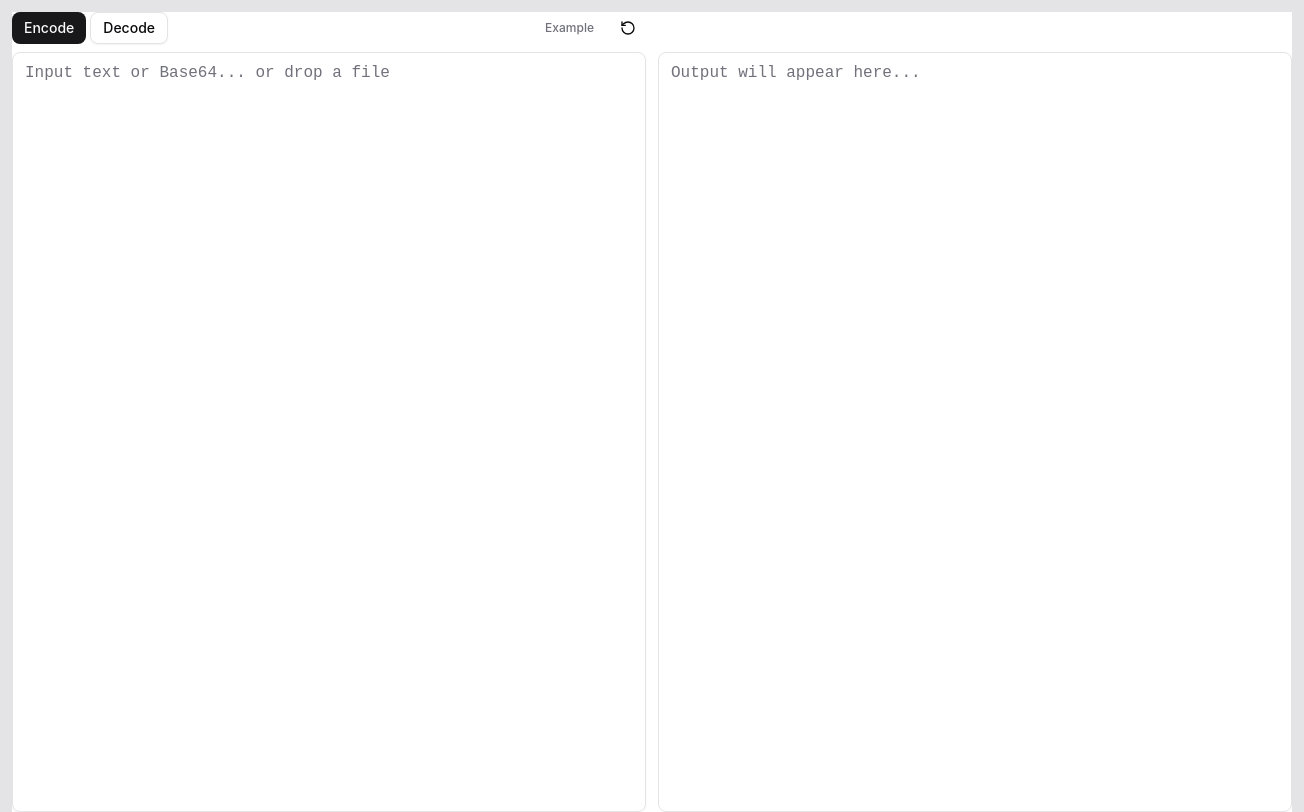
Test case: Encode mode produces base64 output
The width and height of the screenshot is (1304, 812).
Step 1. Click the button "Example" → (570, 28), box [533,12,606,44]
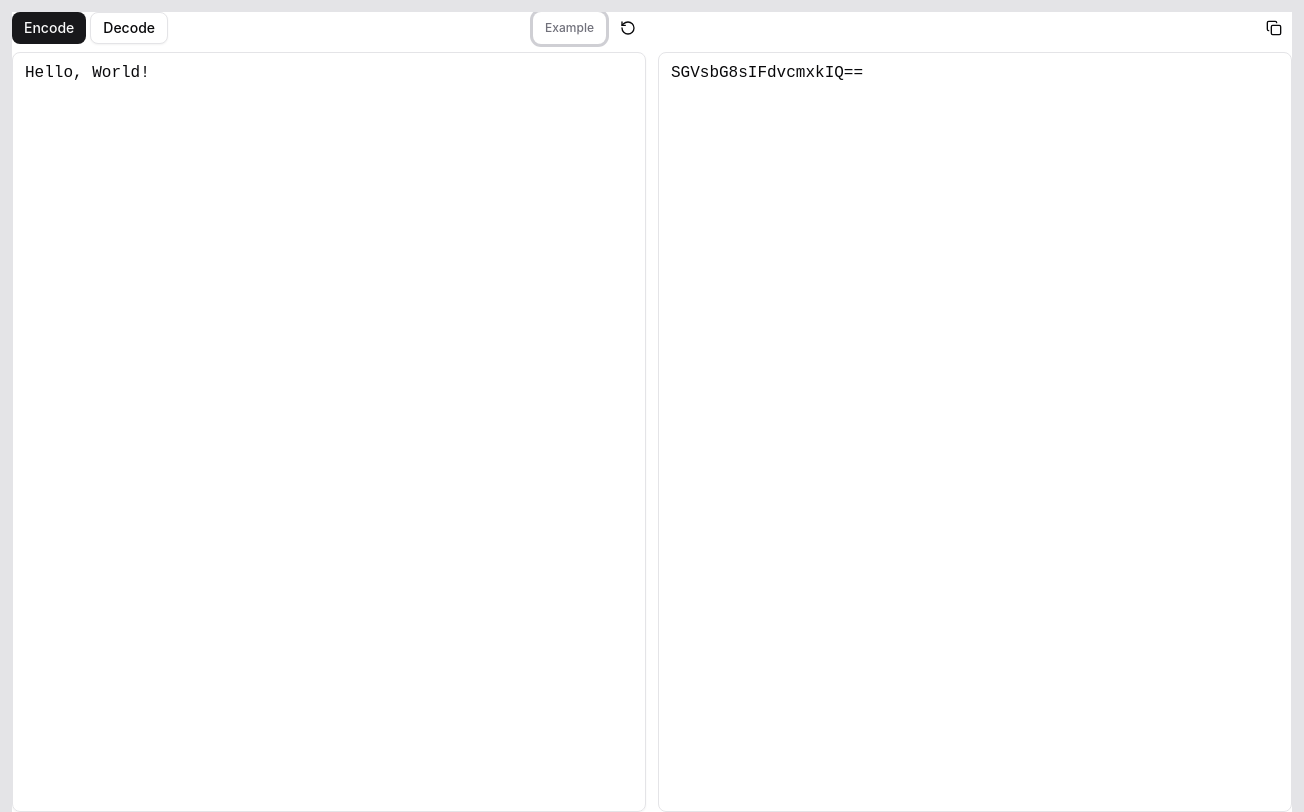
Expected: the text "SGVsbG8sIFdvcmxkIQ==" is shown, [671,64,863,82]
